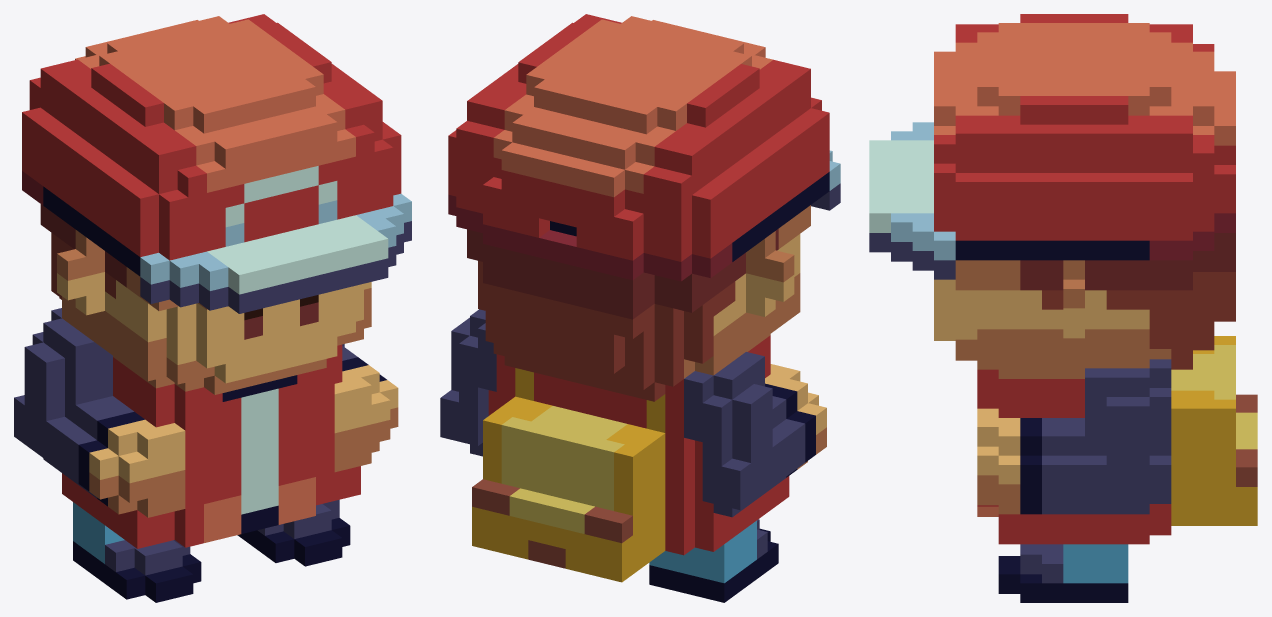
File: PERSONAJE.obj
The picture shows the model from 3 angles, left to right: view 1: azimuth 30°, elevation 25°; view 2: azimuth 150°, elevation 25°; view 3: azimuth 270°, elevation 25°; orthographic projection.
Size of the model in its own units: 1.6 by 2.5 by 1.8.
1 material, 1 textured.
